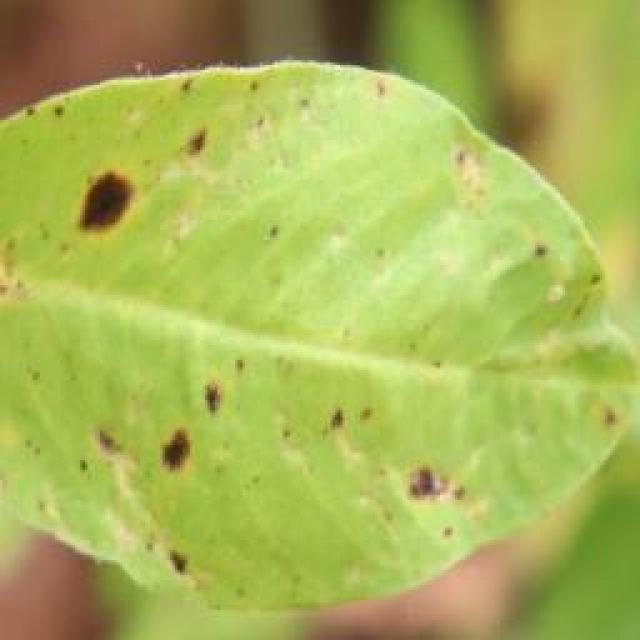Early_leaf_spot: (359, 52, 549, 232), (495, 212, 640, 442), (79, 352, 268, 528), (15, 96, 209, 248), (155, 33, 343, 183), (340, 447, 531, 564), (289, 366, 410, 456), (124, 528, 252, 596)
